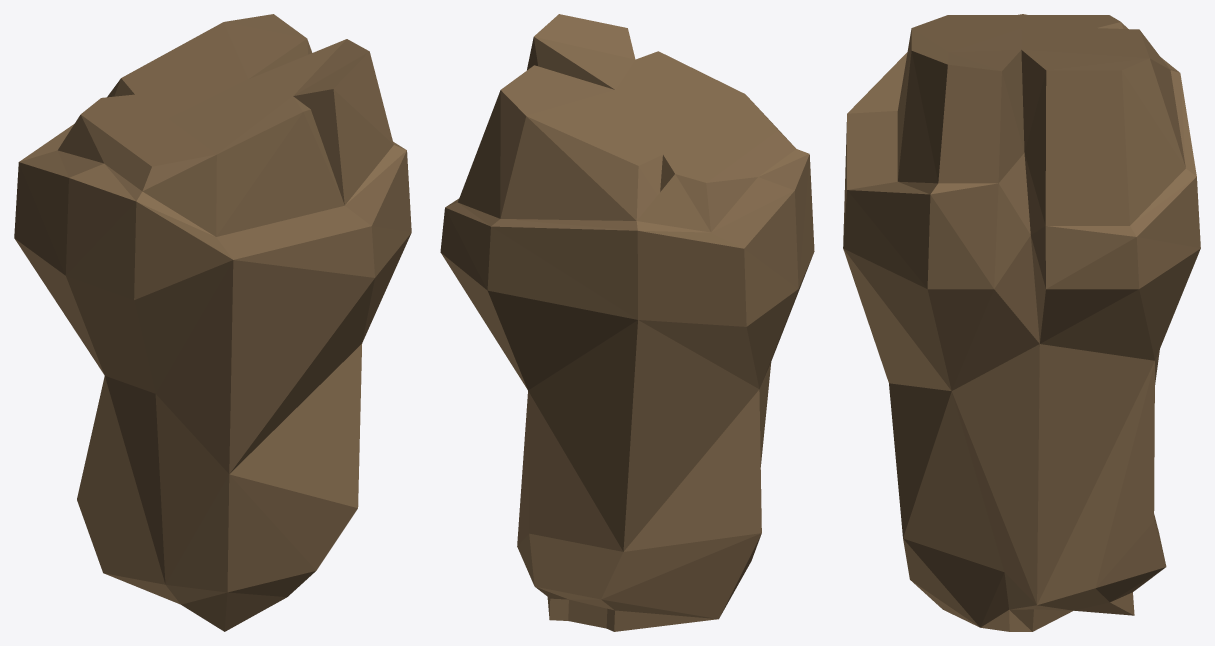
File: rock_a.glb
The picture shows the model from 3 angles, left to right: view 1: azimuth 30°, elevation 25°; view 2: azimuth 150°, elevation 25°; view 3: azimuth 270°, elevation 25°; orthographic projection. The views are drawn at different scales.
Parts seen in each view (by area): view 1: SM_Env_Rock_02; view 2: SM_Env_Rock_02; view 3: SM_Env_Rock_02.
Boxes of the visible parts, x1,y1,x2,y2 form: SM_Env_Rock_02: [14, 14, 411, 631]; SM_Env_Rock_02: [440, 14, 814, 631]; SM_Env_Rock_02: [843, 14, 1200, 631].
Size of the model in its own units: 121 by 206 by 109.
Materials: 1 (1 with a texture image).
